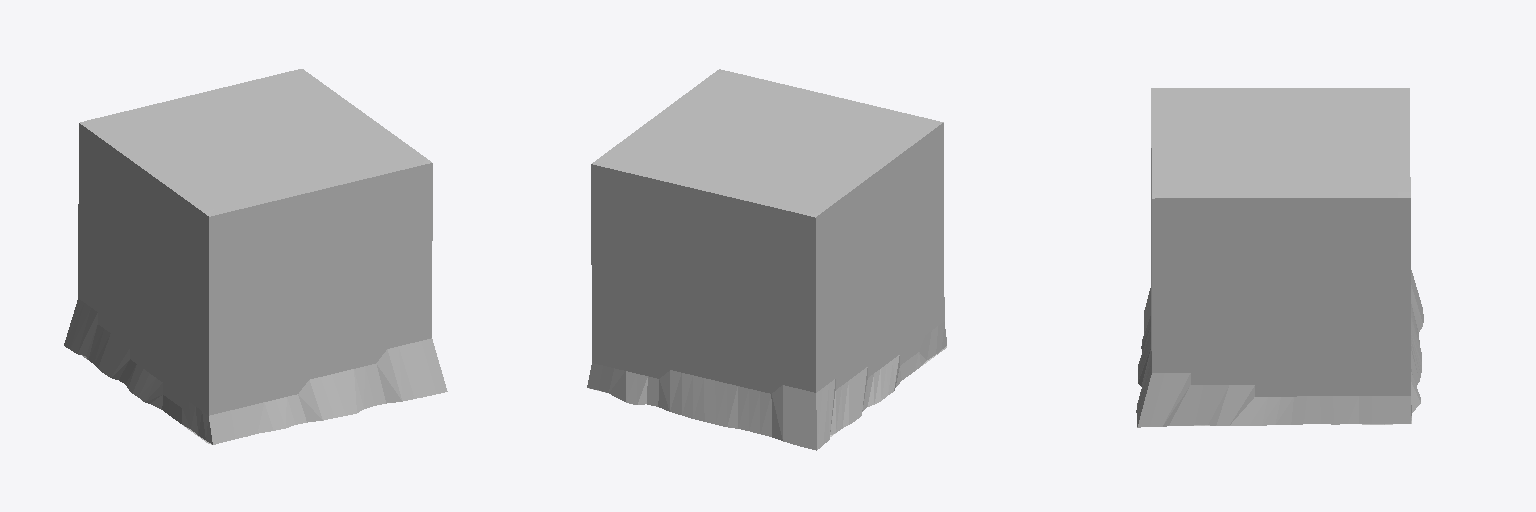
File: mod0229.obj
3 views of the same model, side by side, from view 1: azimuth 30°, elevation 25°; view 2: azimuth 150°, elevation 25°; view 3: azimuth 270°, elevation 25° (orthographic).
Parts seen in each view (by area): view 1: Box001; view 2: Box001; view 3: Box001.
Boxes of the visible parts, box(x1,y1,x2,y2) form: Box001: box(64, 69, 447, 444); Box001: box(587, 69, 946, 450); Box001: box(1136, 88, 1423, 427).
Bounding box in the file's own units: 0.5799 × 0.5218 × 0.5979.